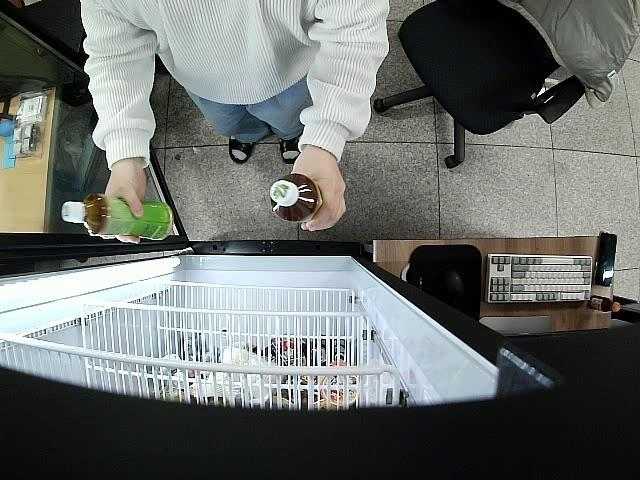19_17cha: (63, 192, 174, 242), (272, 174, 323, 223)
